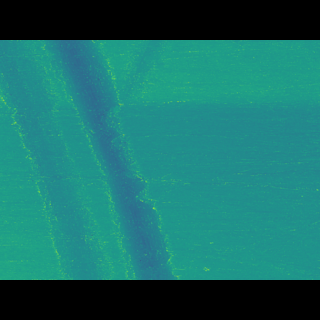Loch: (0, 68, 181, 249)
